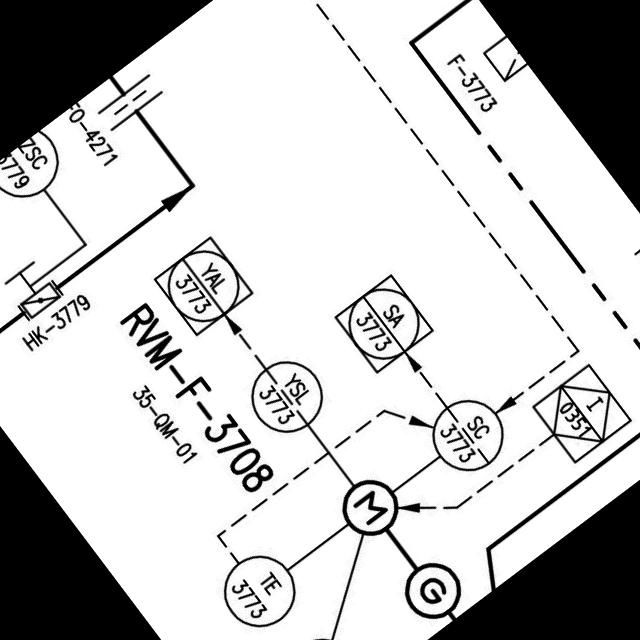BV: (0, 251, 71, 327)
O: (91, 65, 172, 139)
RVM: (326, 462, 478, 636)
